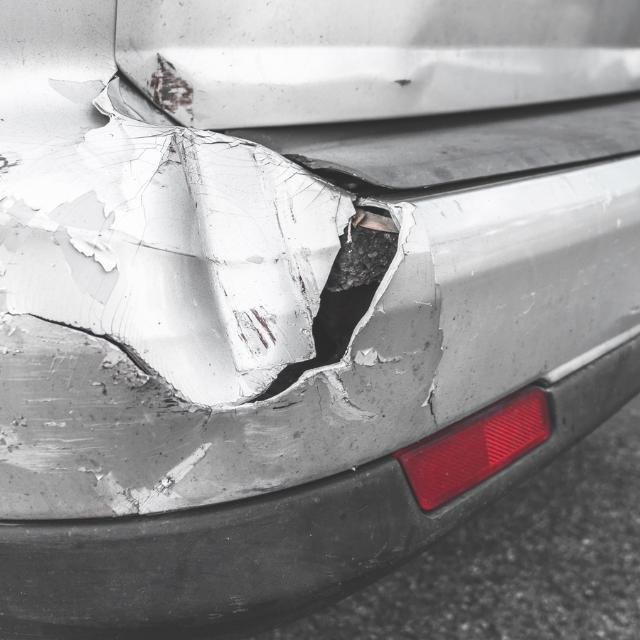Bumper: (0, 92, 442, 513)
